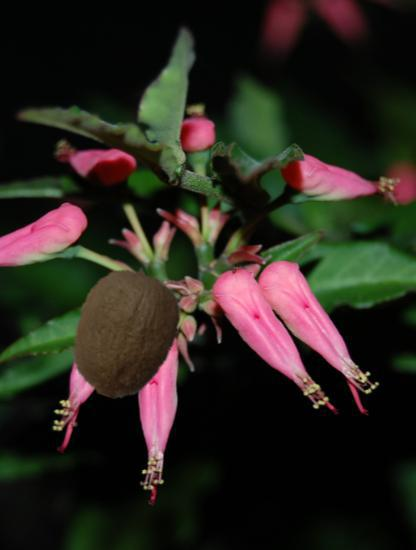Kiwi: (61, 266, 195, 400)
